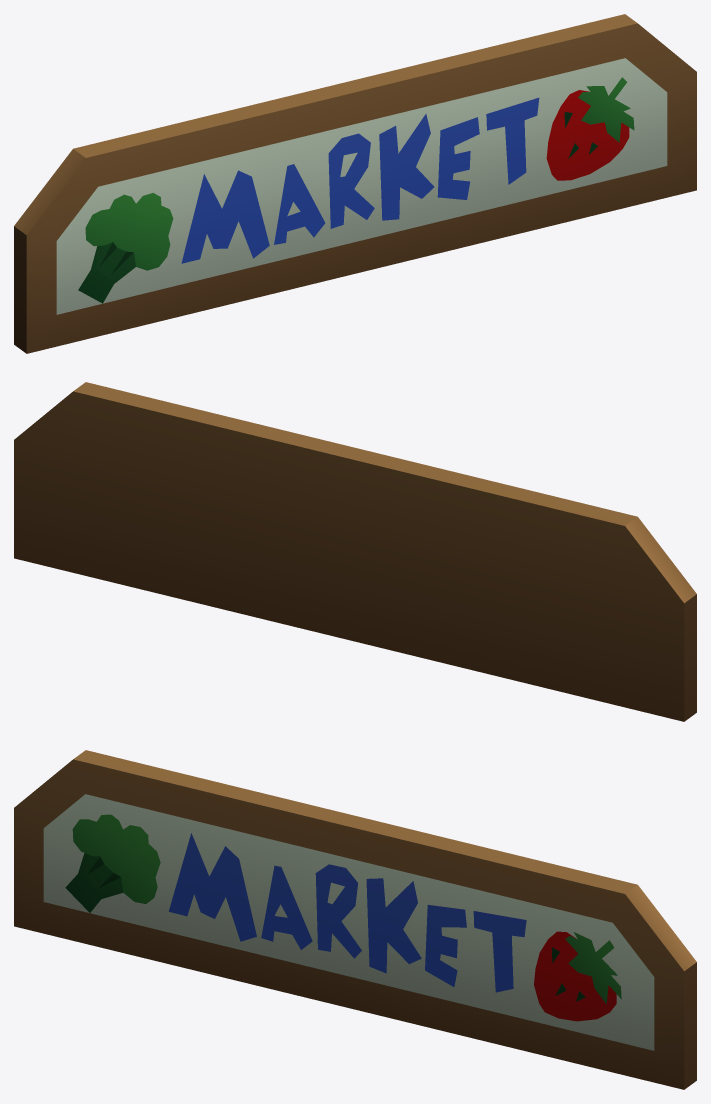
Rendered from Shop_MarketSign.fbx.
3 views of the same model, one above another, from view 1: azimuth 30°, elevation 25°; view 2: azimuth 150°, elevation 25°; view 3: azimuth 330°, elevation 25° (orthographic).
Visible parts, largest first — view 1: Shop_MarketSign; view 2: Shop_MarketSign; view 3: Shop_MarketSign.
Boxes of the visible parts, <box> form: Shop_MarketSign: <box>14,14,696,353</box>; Shop_MarketSign: <box>14,382,696,721</box>; Shop_MarketSign: <box>14,750,696,1089</box>.
Bounding box in the file's own units: 393 × 102 × 12.95.
3 materials, 3 textured.
